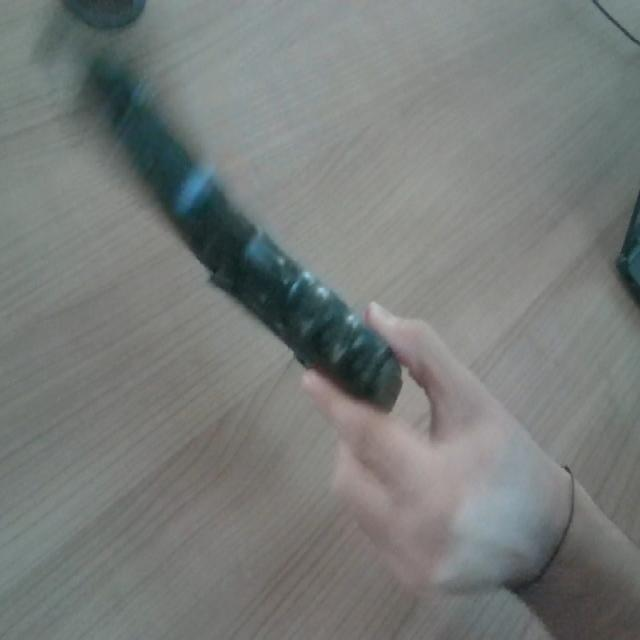handgun: (66, 34, 442, 432)
